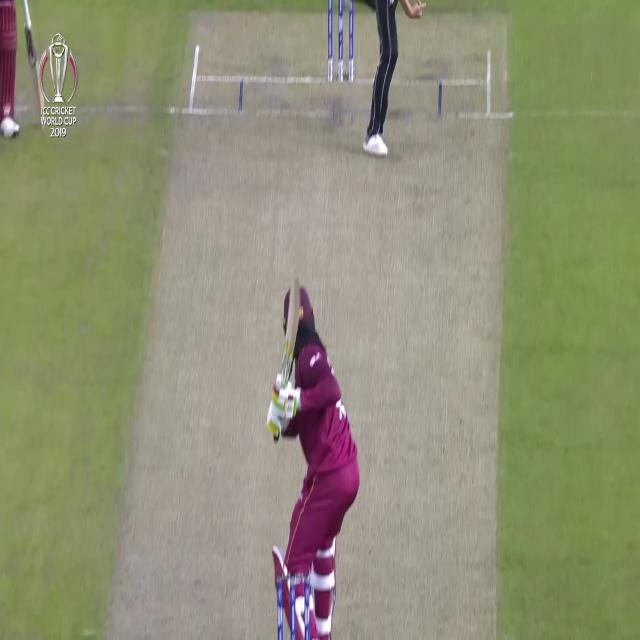ball: (272, 368, 282, 386)
